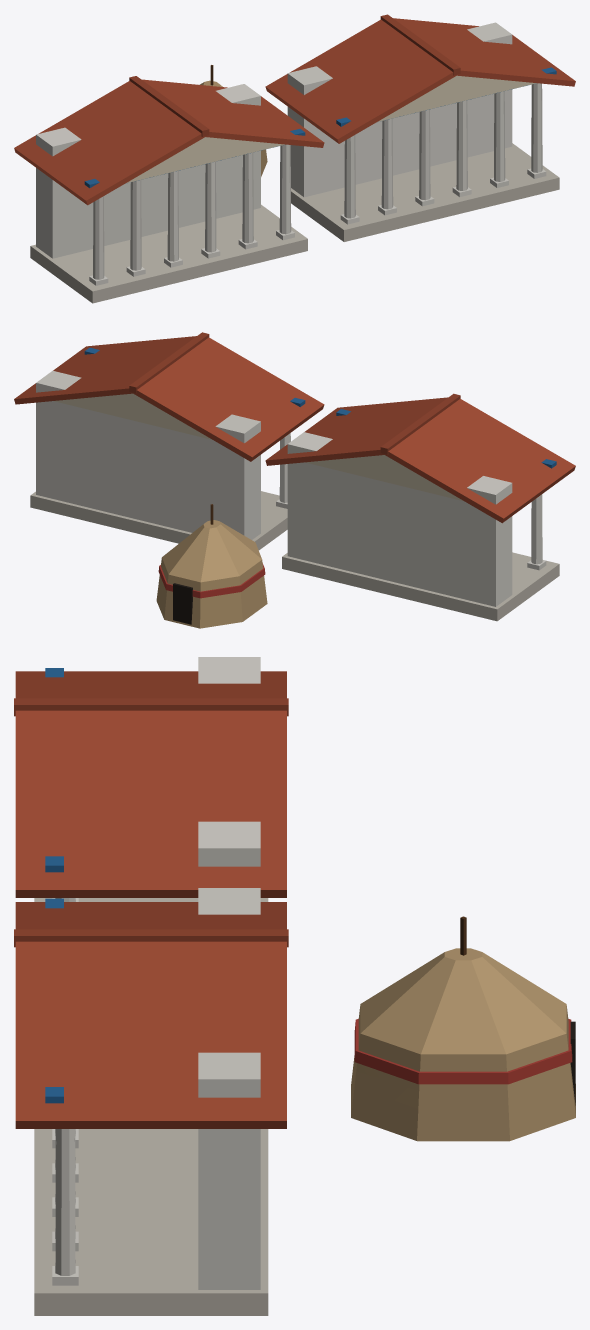
The model's file is centaur_row_broken.glb.
The picture shows the model from 3 angles, top to bottom: view 1: azimuth 30°, elevation 25°; view 2: azimuth 150°, elevation 25°; view 3: azimuth 270°, elevation 25°; orthographic projection. The views are drawn at different scales.
Visible parts, largest first — view 1: centaur_row_piece5, centaur_row_piece1, centaur_row_piece0, centaur_row_piece13, centaur_row_piece3, centaur_row_piece8, centaur_row_piece7, centaur_row_piece6, centaur_row_piece2, centaur_row_piece10, centaur_row_piece9, centaur_row_piece4 (+1 smaller); view 2: centaur_row_piece1, centaur_row_piece2, centaur_row_piece4, centaur_row_piece5, centaur_row_piece3, centaur_row_piece10, centaur_row_piece8, centaur_row_piece0, centaur_row_piece11, centaur_row_piece6, centaur_row_piece9, centaur_row_piece7; view 3: centaur_row_piece5, centaur_row_piece4, centaur_row_piece1, centaur_row_piece0, centaur_row_piece2, centaur_row_piece10, centaur_row_piece9, centaur_row_piece3, centaur_row_piece7, centaur_row_piece12, centaur_row_piece6.
Boxes of the visible parts, left/top/right/bottom form: centaur_row_piece5: left=375, top=32, right=575, bottom=218; centaur_row_piece1: left=14, top=76, right=247, bottom=265; centaur_row_piece0: left=78, top=111, right=324, bottom=254; centaur_row_piece13: left=93, top=110, right=307, bottom=299; centaur_row_piece3: left=291, top=40, right=466, bottom=208; centaur_row_piece8: left=42, top=172, right=225, bottom=303; centaur_row_piece7: left=299, top=63, right=476, bottom=224; centaur_row_piece6: left=216, top=97, right=415, bottom=251; centaur_row_piece2: left=287, top=14, right=515, bottom=119; centaur_row_piece10: left=184, top=83, right=393, bottom=181; centaur_row_piece9: left=394, top=29, right=508, bottom=127; centaur_row_piece4: left=199, top=62, right=307, bottom=106; centaur_row_piece1: left=328, top=403, right=568, bottom=621; centaur_row_piece2: left=14, top=366, right=263, bottom=510; centaur_row_piece4: left=156, top=424, right=358, bottom=628; centaur_row_piece5: left=27, top=337, right=184, bottom=543; centaur_row_piece3: left=156, top=336, right=285, bottom=550; centaur_row_piece10: left=268, top=372, right=335, bottom=528; centaur_row_piece8: left=328, top=525, right=559, bottom=612; centaur_row_piece0: left=335, top=393, right=575, bottom=532; centaur_row_piece11: left=158, top=413, right=290, bottom=559; centaur_row_piece6: left=252, top=362, right=290, bottom=540; centaur_row_piece9: left=45, top=352, right=179, bottom=530; centaur_row_piece7: left=180, top=332, right=272, bottom=547; centaur_row_piece5: left=15, top=957, right=268, bottom=1315; centaur_row_piece4: left=194, top=857, right=575, bottom=1141; centaur_row_piece1: left=43, top=657, right=288, bottom=901; centaur_row_piece0: left=14, top=671, right=158, bottom=901; centaur_row_piece2: left=185, top=888, right=288, bottom=1181; centaur_row_piece10: left=15, top=783, right=286, bottom=917; centaur_row_piece9: left=89, top=929, right=264, bottom=1158; centaur_row_piece3: left=15, top=902, right=263, bottom=1157; centaur_row_piece7: left=14, top=927, right=198, bottom=1186; centaur_row_piece12: left=262, top=1071, right=465, bottom=1173; centaur_row_piece6: left=15, top=903, right=151, bottom=1159.
Size of the model in its own units: 6.82 by 2.01 by 3.6.
